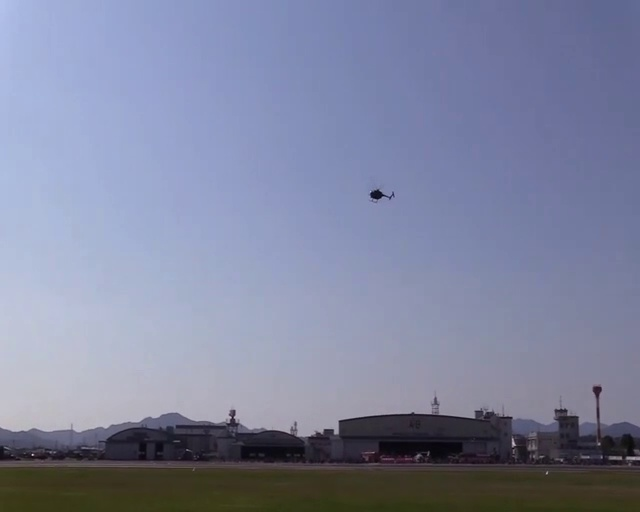HELICOPTER: (369, 187, 394, 202)
